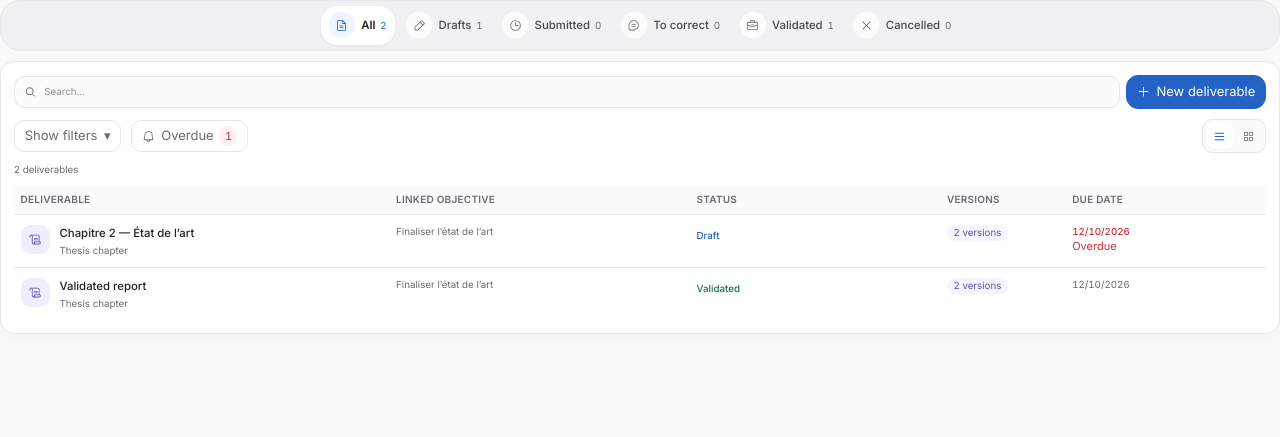
deliverables › switches views, filters overdue work and clears filters without losing the card view
Check: the row "Validated report" is shown, box [14,267,1266,320]
Check: the tab "All 2" is shown, box [321,6,395,45]
Click the button named "Card view".
click(1249, 136)  # box [1236,123,1262,149]
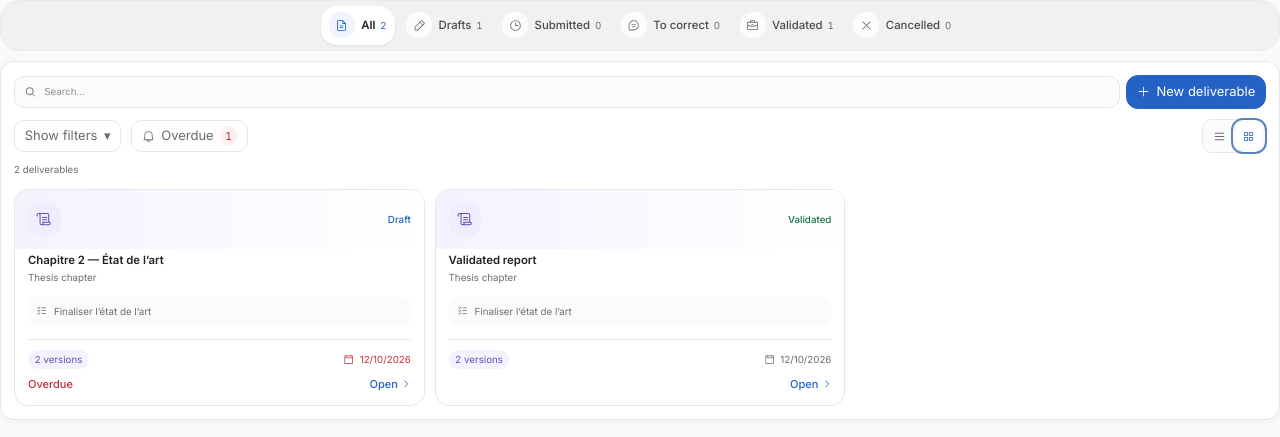
Check: the number of list items is 2, box [14,189,425,406]; [435,189,845,406]
Click the button with aria-label "Overdue only".
click(189, 136)  # box [131,120,248,152]
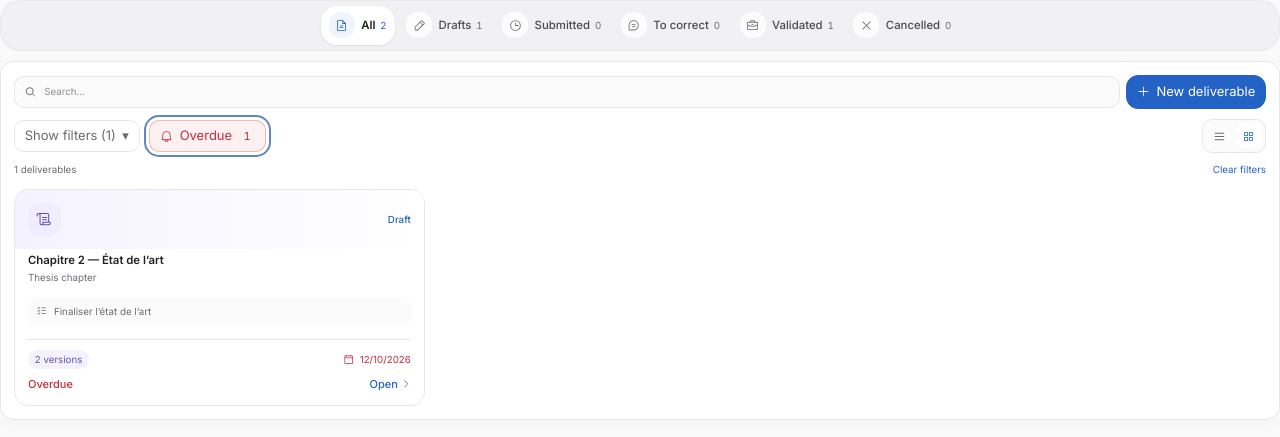
Check: the number of list items is 1, box [14,189,425,406]
Check: the link "Validated report" is gone
Click the tab "Drafts 1".
click(444, 25)  # box [398,6,491,45]
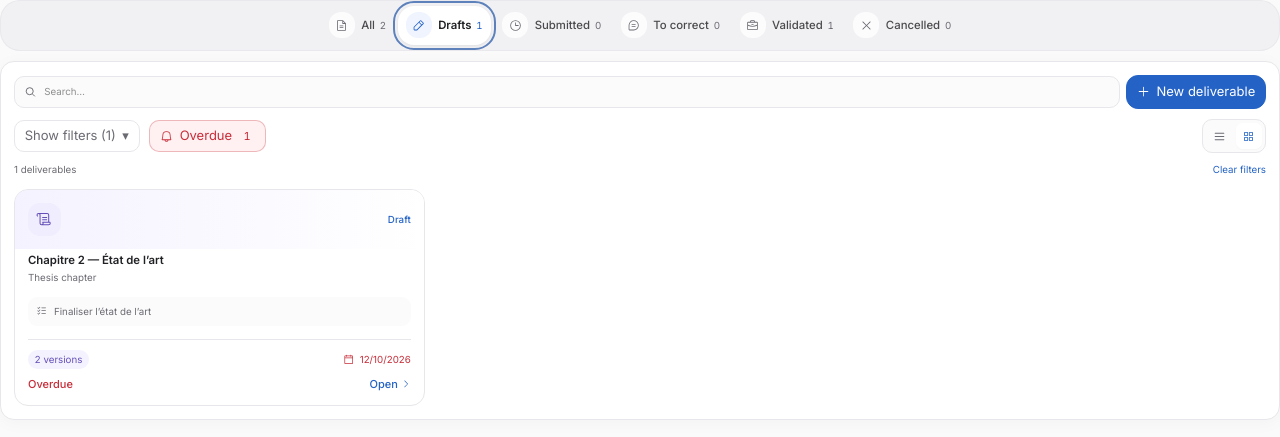
Click the button "Clear filters".
click(1239, 170)  # box [1213,163,1266,176]
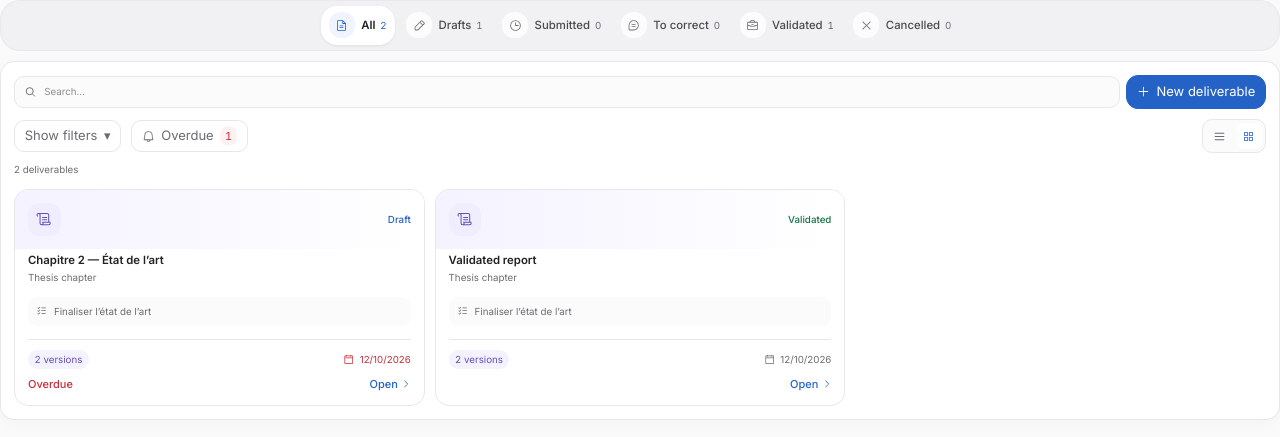
Check: the number of list items is 2, box [14,189,425,406]; [435,189,845,406]
Click the button named "List view".
click(1220, 136)  # box [1206,123,1232,149]
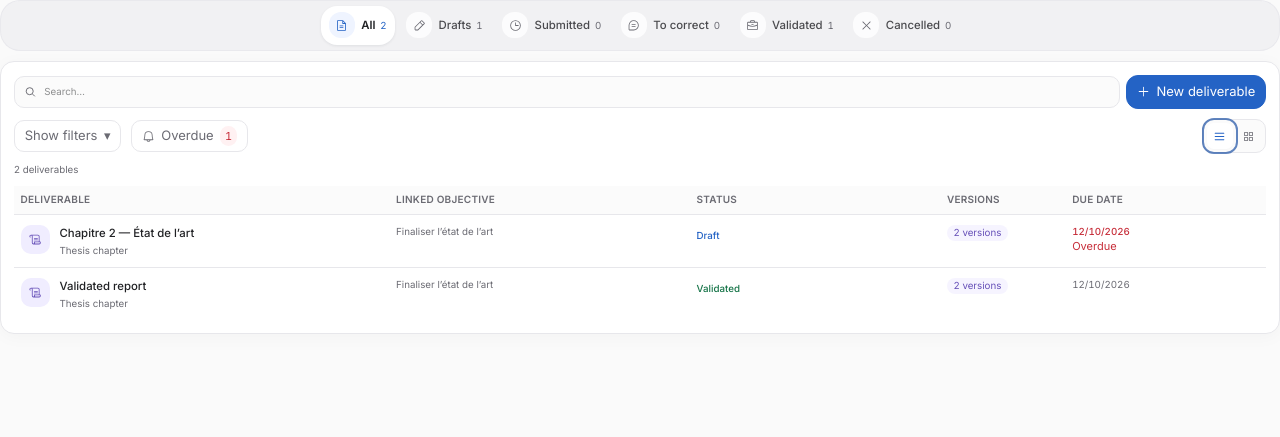
Check: the row "Validated report" is shown, box [14,267,1266,320]
